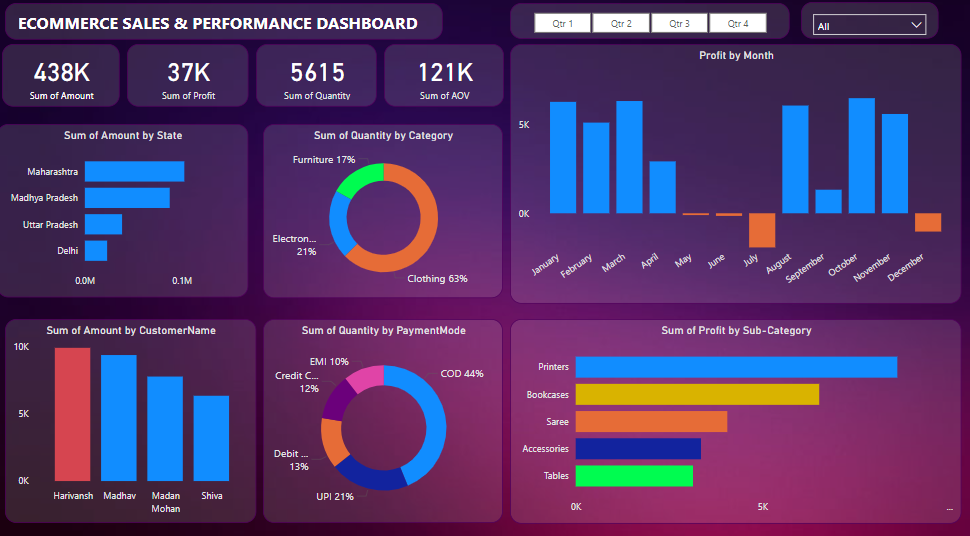

What the dashboard file says about the page in this screenshot:
{"tool":"powerbi","page":{"name":"Page 1","canvas":[1280,720],"ordinal":0},"visuals":[{"type":"textbox","box":[160,10,461.4,48.6],"z":0},{"type":"columnChart","title":"Profit by Month","fields":{"Category":["Orders.Order Date.Variation.Date Hierarchy.Month"],"Y":["Details.Profit"]},"box":[671.4,65.7,591.4,340],"z":1000},{"type":"barChart","fields":{"Category":["Details.Sub-Category"],"Y":["Details.Profit"]},"box":[671.2,425,591.2,267.5],"z":2000},{"type":"donutChart","fields":{"Category":["Details.Category"],"Y":["Details.Quantity"]},"box":[348.8,170,313.8,227.5],"z":2001},{"type":"donutChart","fields":{"Y":["Details.Quantity"],"Category":["Details.PaymentMode"]},"box":[348.6,425.7,314.3,267.1],"z":2002},{"type":"card","fields":{"Values":["Details.Amount"]},"box":[7,66,154,82],"z":2003},{"type":"card","fields":{"Values":["Details.Quantity"]},"box":[339,66,158,82],"z":2004},{"type":"card","fields":{"Values":["Details.Profit"]},"box":[170,66,159,82],"z":2005},{"type":"card","fields":{"Values":["Details.AOV"]},"box":[506,66,157,82],"z":2006},{"type":"barChart","fields":{"Y":["Details.Amount"],"Category":["Orders.State"]},"box":[0,170,328.6,227.1],"z":2007},{"type":"columnChart","fields":{"Category":["Orders.CustomerName"],"Y":["Details.Amount"]},"box":[10,425.7,328.6,267.1],"z":2008},{"type":"slicer","fields":{"Values":["Orders.Order Date.Variation.Date Hierarchy.Quarter"]},"box":[671.4,11.4,365.7,47.1],"z":2009},{"type":"slicer","fields":{"Values":["Orders.State"]},"box":[1052.9,10,180,48],"z":2010}]}

Visuals, with their boxes in screenshot pixels (x1, y1, x2, y2), scaled from the page's 1280x720 canvas onto the 970x536 screenshot:
textbox: (121, 7, 471, 44)
"Profit by Month" columnChart: (509, 49, 957, 302)
barChart - Details.Sub-Category x Details.Profit: (509, 316, 957, 516)
donutChart - Details.Category x Details.Quantity: (264, 127, 502, 296)
donutChart - Details.Quantity x Details.PaymentMode: (264, 317, 502, 516)
card - Details.Amount: (5, 49, 122, 110)
card - Details.Quantity: (257, 49, 377, 110)
card - Details.Profit: (129, 49, 249, 110)
card - Details.AOV: (383, 49, 502, 110)
barChart - Details.Amount x Orders.State: (0, 127, 249, 296)
columnChart - Orders.CustomerName x Details.Amount: (8, 317, 257, 516)
slicer - Orders.Order Date.Variation.Date Hierarchy.Quarter: (509, 8, 786, 44)
slicer - Orders.State: (798, 7, 934, 43)
